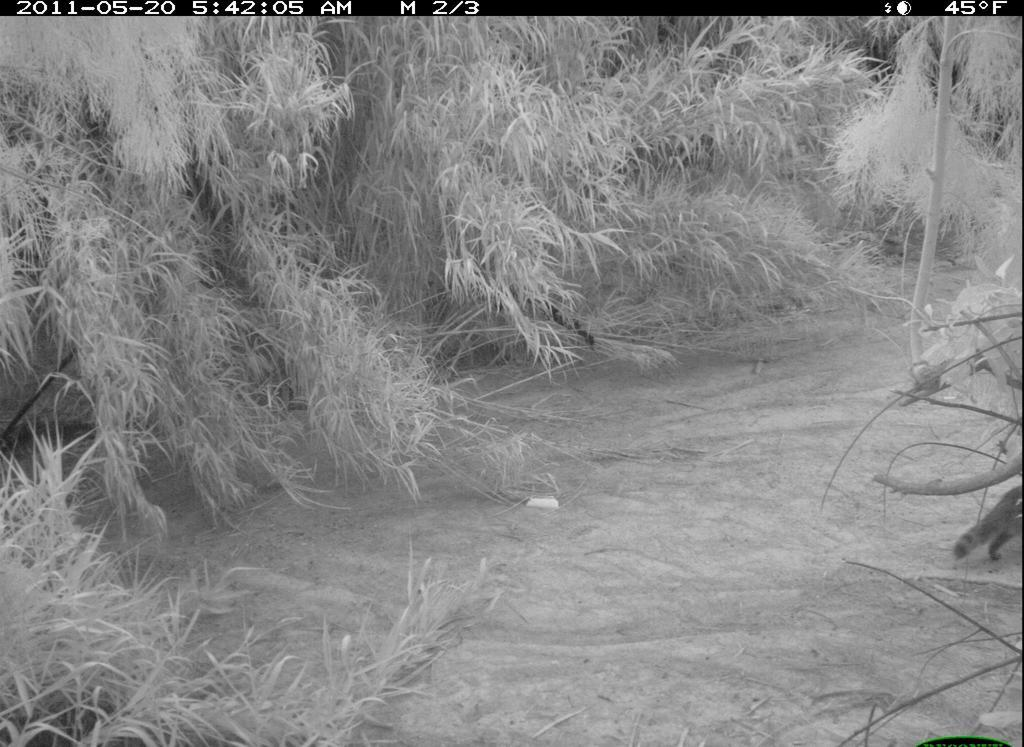raccoon: (948, 478, 1023, 573)
